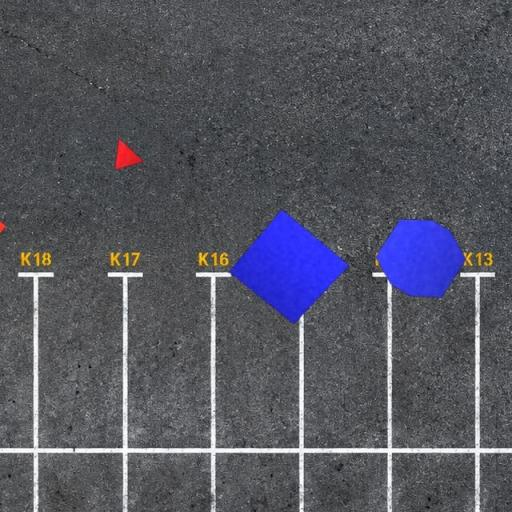BLUE_SQUARE: (228, 208, 350, 326)
